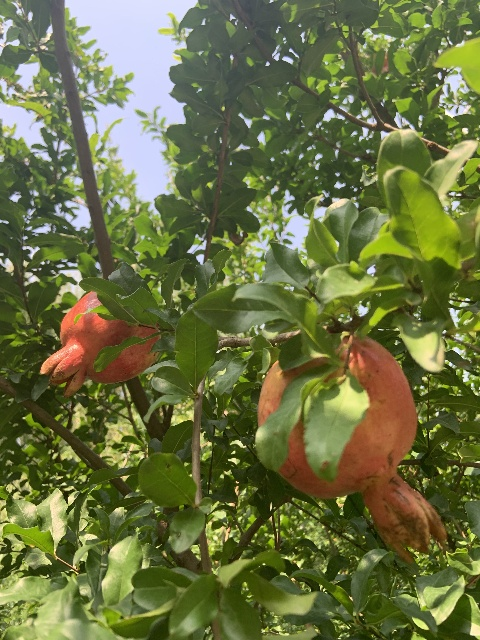ripe: (256, 332, 446, 560), (40, 291, 161, 397)
